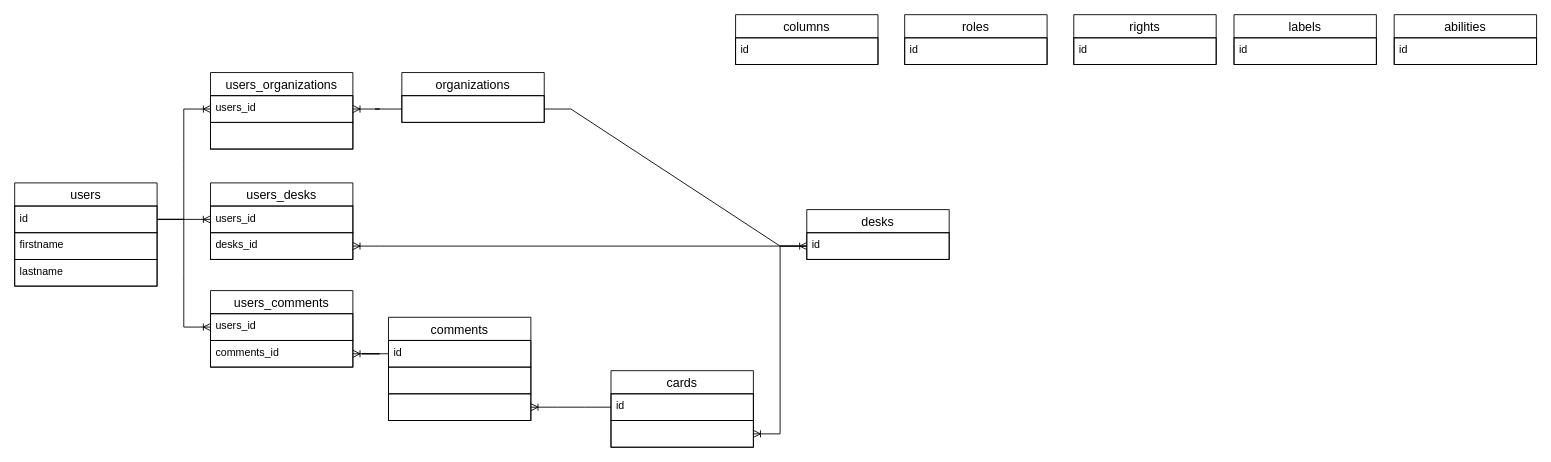
The diagram is 1551 pixels wide and 462 high, and some of its shapes have lost their labels. The centre of each missing label's shape, as x and y in pixels:
card_id: point (459, 407)
desk_id: point (681, 433)
Item 1: point (472, 108)
organizations_id: point (281, 135)
text: point (459, 380)
